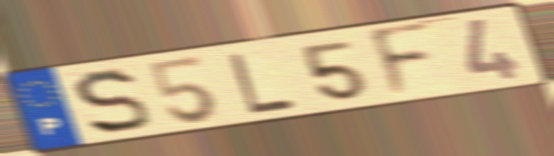4: (462, 16, 522, 84)
5: (145, 53, 219, 128), (296, 37, 374, 101)
F: (366, 19, 437, 103)
L: (224, 50, 301, 116)
S: (69, 67, 155, 137)
